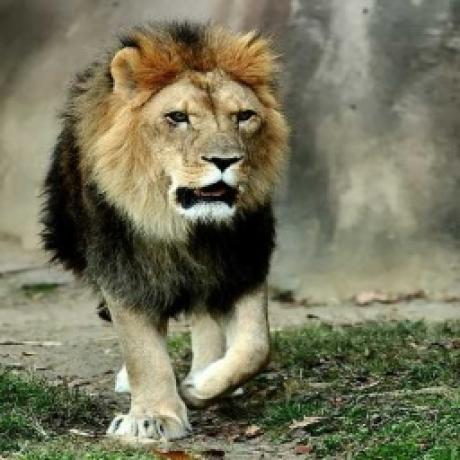Lion: (40, 15, 291, 446)
